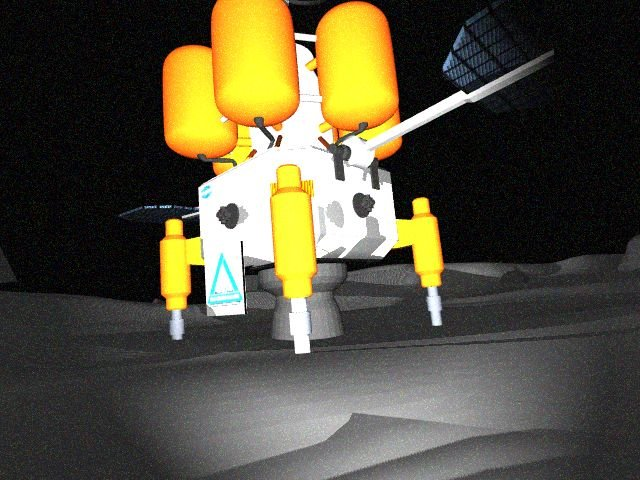basemarker: (205, 251, 244, 304)
